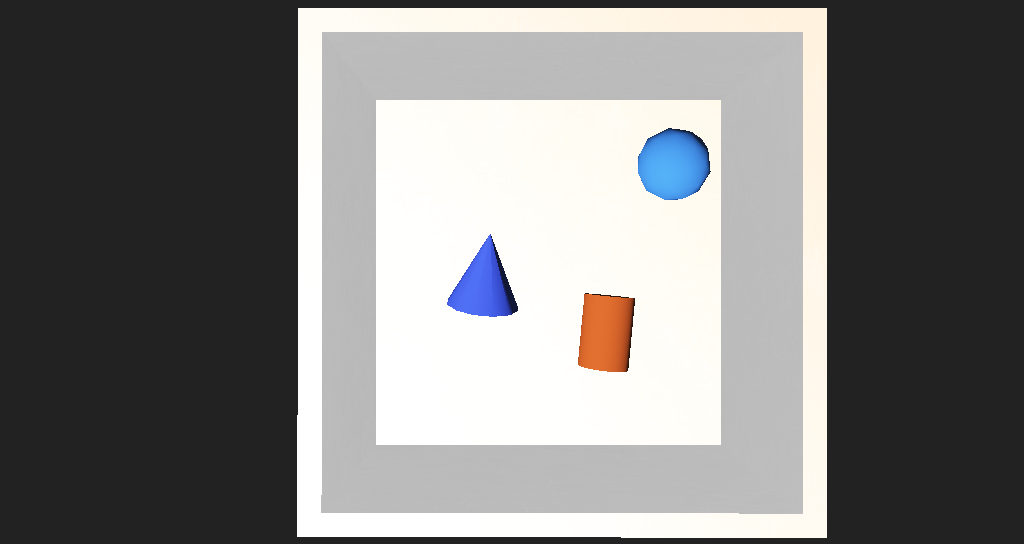cone: (536, 282, 583, 329)
cylinder: (404, 236, 485, 298)
sphere: (579, 177, 647, 224)
